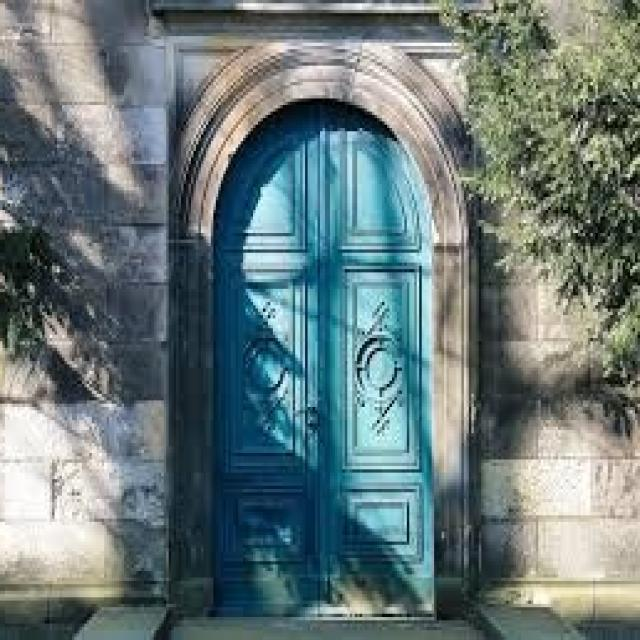door: (211, 102, 436, 620)
